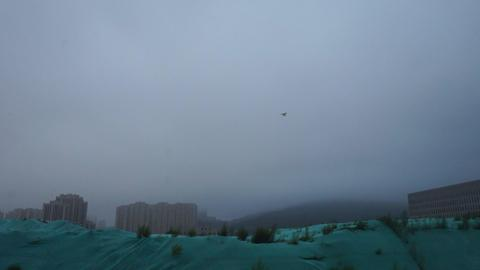UAV: (281, 112, 288, 116)
